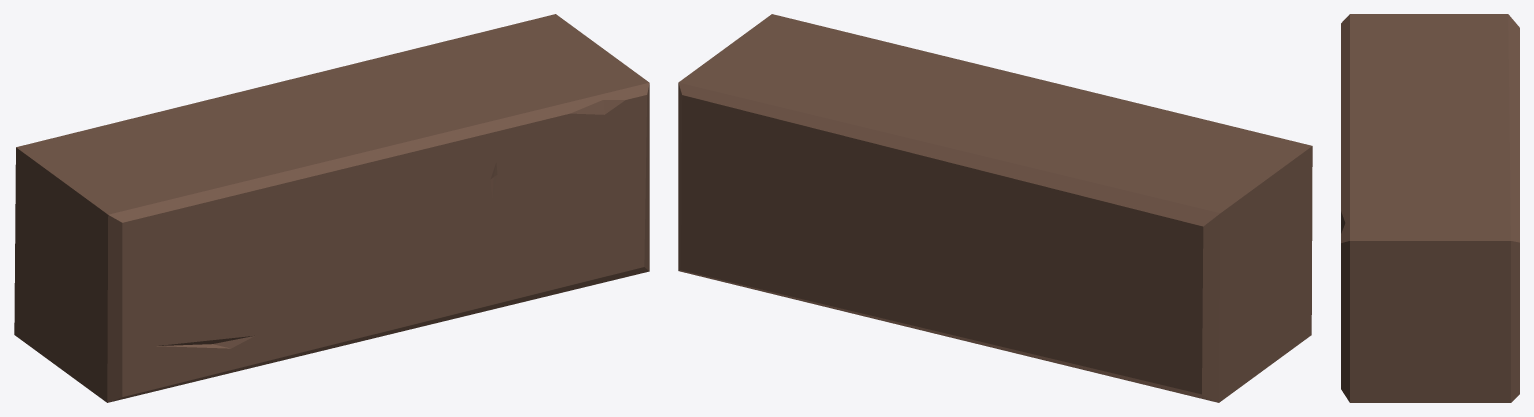
The model's file is victorian_brick.fbx.
3 views of the same model, side by side, from view 1: azimuth 30°, elevation 25°; view 2: azimuth 150°, elevation 25°; view 3: azimuth 270°, elevation 25° (orthographic). The views are drawn at different scales.
Parts seen in each view (by area): view 1: Cube; view 2: Cube; view 3: Cube.
Boxes of the visible parts, left/top/right/bottom form: Cube: left=14, top=14, right=649, bottom=402; Cube: left=678, top=14, right=1312, bottom=402; Cube: left=1341, top=14, right=1519, bottom=402.
Bounding box in the file's own units: 60 × 20 × 20.
